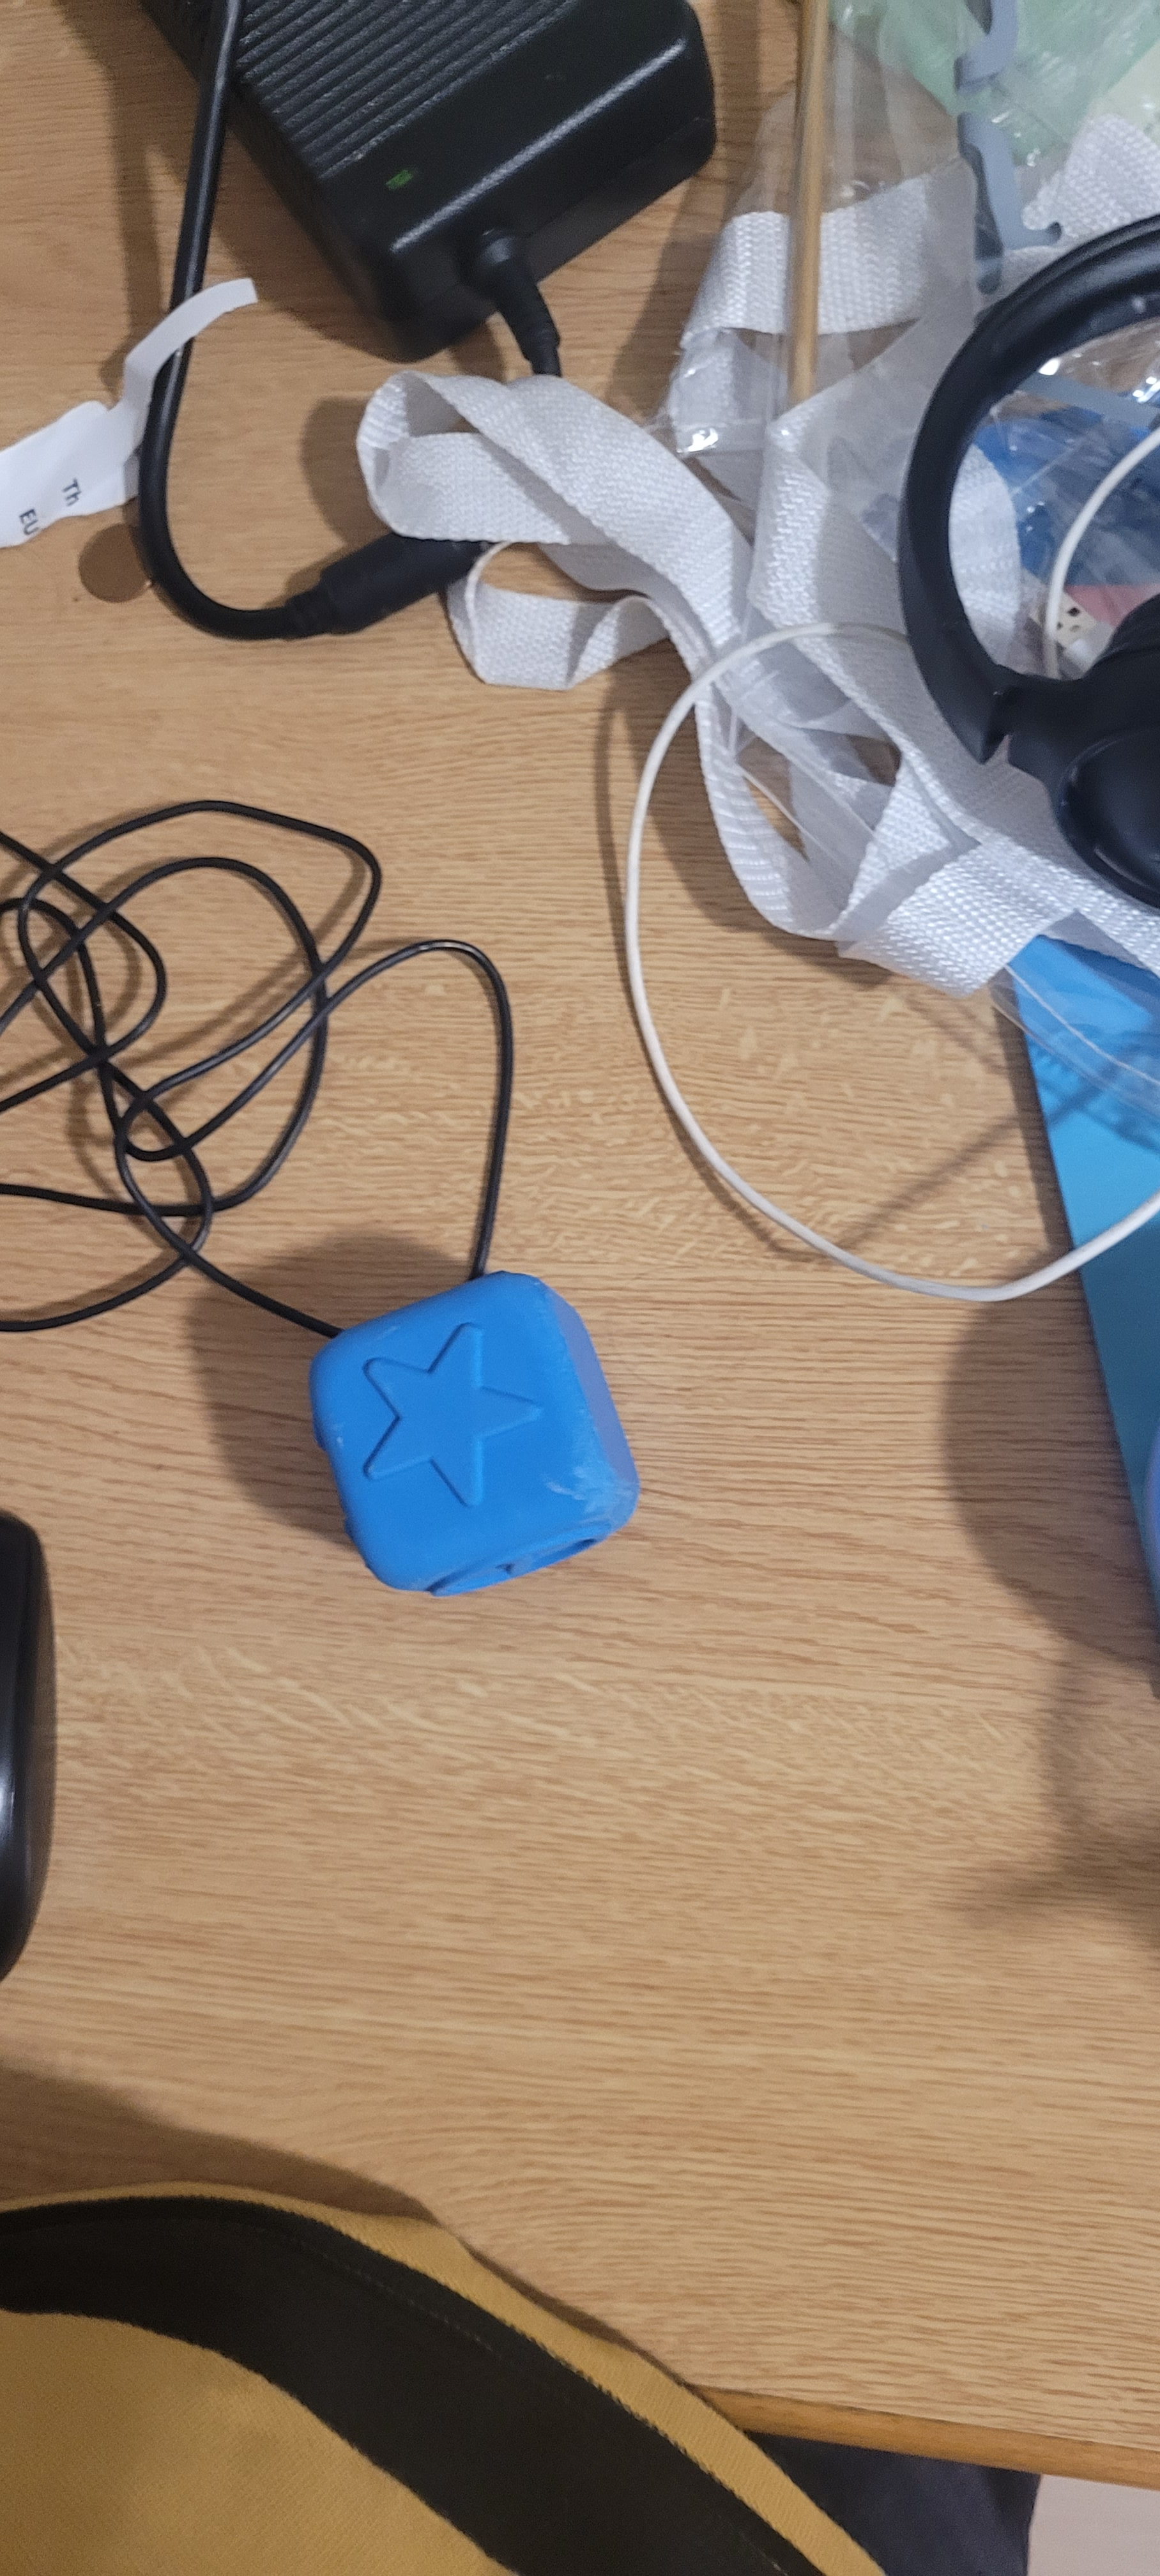Star: (334, 1334, 562, 1516)
